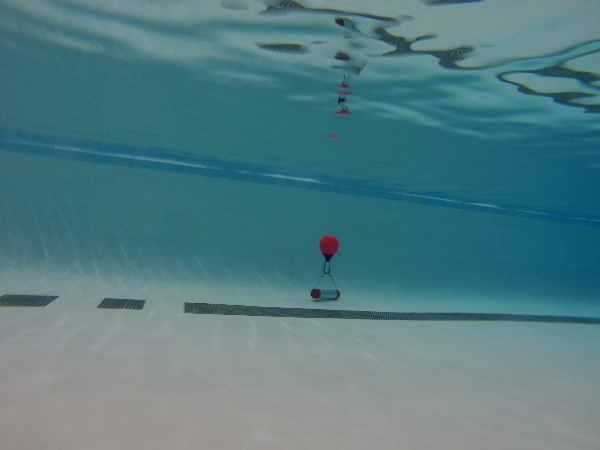buoy_red: (316, 233, 341, 264)
